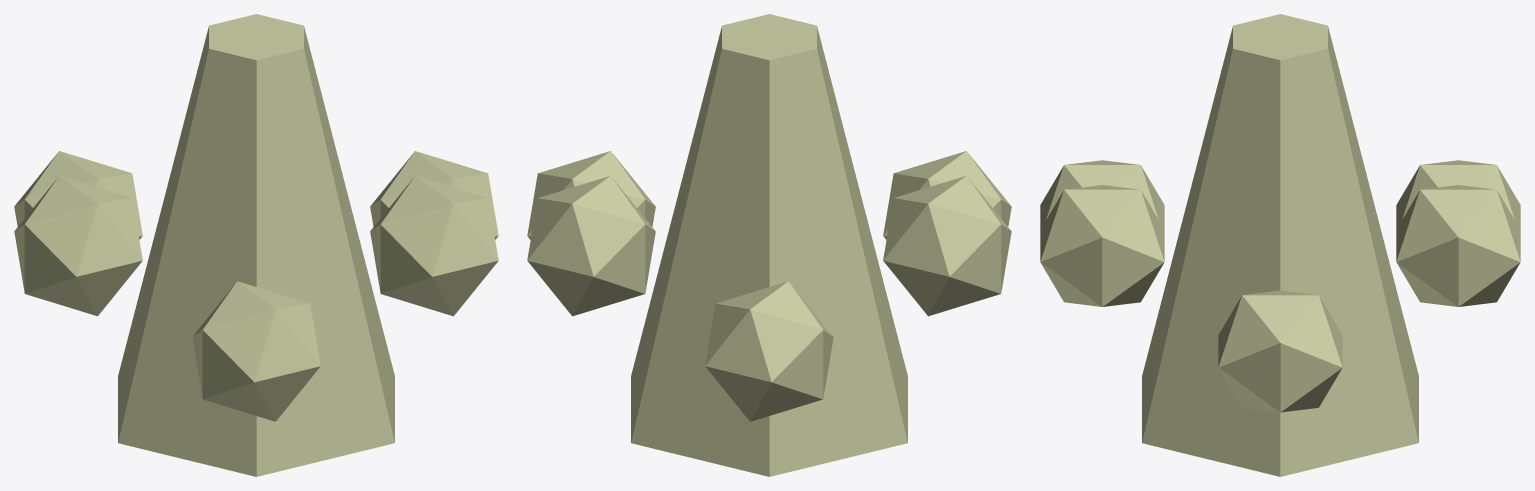
Rendered from splash.glb.
3 renders of one model, left to right at view 1: azimuth 30°, elevation 25°; view 2: azimuth 150°, elevation 25°; view 3: azimuth 270°, elevation 25°, orthographic.
Visible parts, largest first — view 1: Column, Drop5, Drop4, Drop3, Drop2, Drop0; view 2: Column, Drop1, Drop2, Drop3, Drop4, Drop0; view 3: Column, Drop0, Drop1, Drop5, Drop2, Drop4.
Part boxes in pixels (x1,y1,x2,y2): Column: (118, 14, 394, 476); Drop5: (370, 176, 498, 316); Drop4: (192, 281, 320, 421); Drop3: (14, 175, 142, 316); Drop2: (14, 151, 142, 239); Drop0: (370, 151, 498, 239); Column: (631, 14, 907, 476); Drop1: (527, 176, 655, 316); Drop2: (705, 281, 833, 421); Drop3: (883, 175, 1011, 316); Drop4: (883, 151, 1011, 239); Drop0: (527, 151, 655, 239); Column: (1142, 14, 1418, 476); Drop0: (1218, 290, 1342, 412); Drop1: (1396, 185, 1520, 306); Drop5: (1040, 185, 1164, 306); Drop2: (1396, 160, 1520, 229); Drop4: (1040, 160, 1164, 229).
Bounding box in the file's own units: 1.17 × 0.9 × 1.05.
